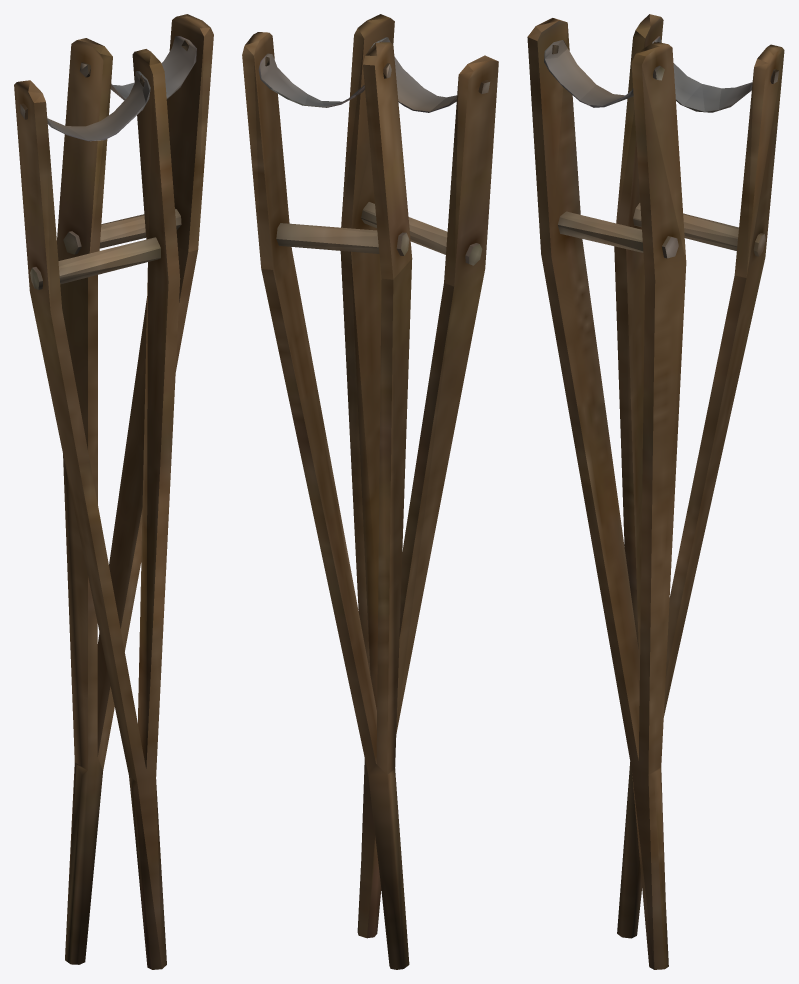
File: crutches.glb
3 renders of one model, left to right at view 1: azimuth 30°, elevation 25°; view 2: azimuth 150°, elevation 25°; view 3: azimuth 330°, elevation 25°, orthographic.
Visible parts, largest first — view 1: prop; view 2: prop; view 3: prop.
Part boxes in pixels (x1,y1,x2,y2): prop: (14,14,213,969); prop: (242,14,498,969); prop: (527,14,784,969).
Bounding box in the file's own units: 0.3229 × 1.35 × 0.1701.
Materials: 1 (1 with a texture image).
